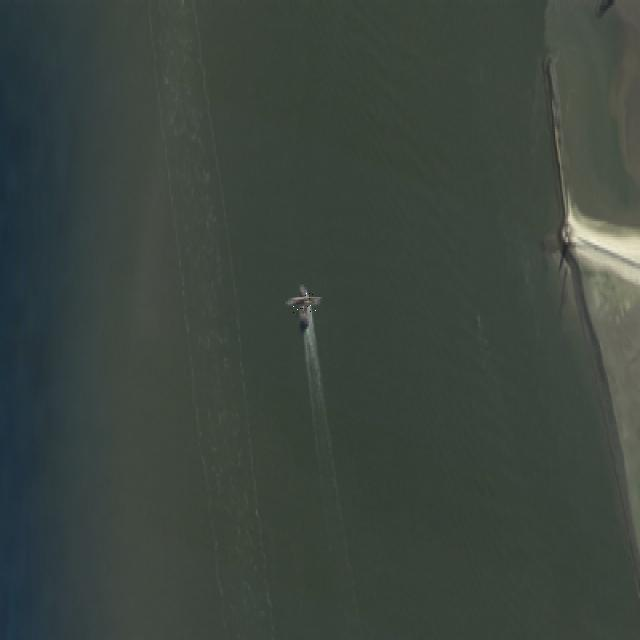boat: (290, 289, 316, 314)
